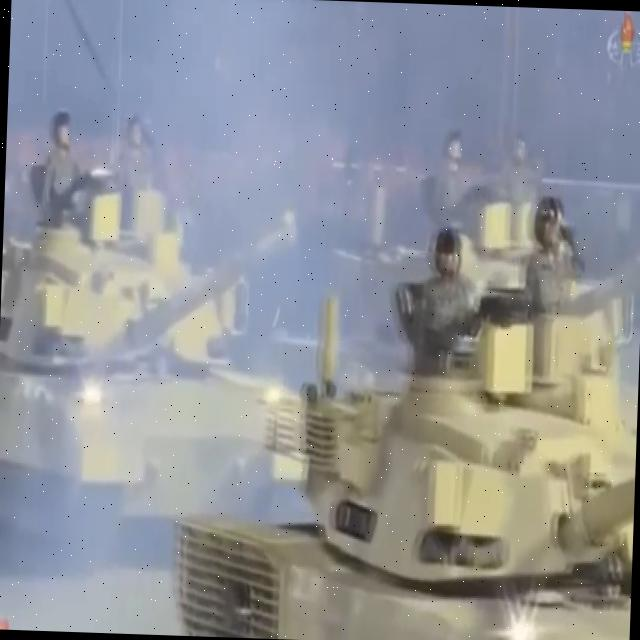north tank: (170, 295, 640, 640), (0, 177, 312, 592)
